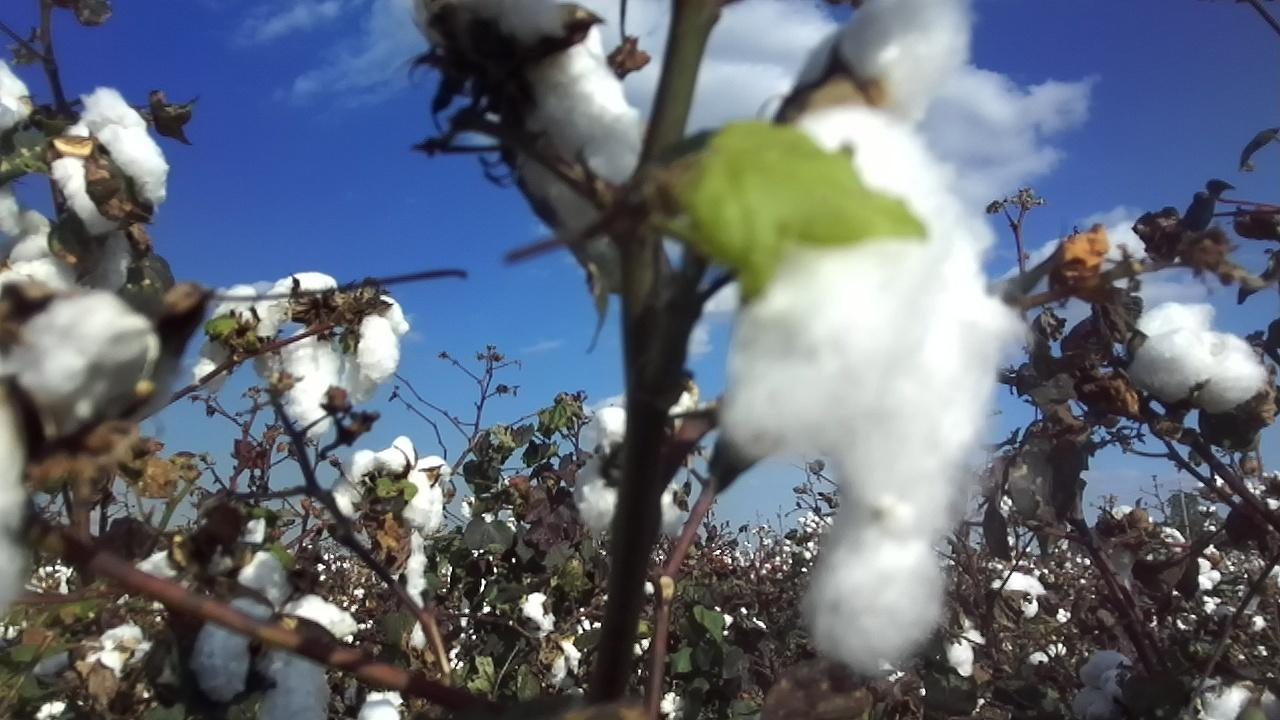cotton_ready: (719, 0, 1032, 682), (411, 0, 645, 292), (0, 267, 155, 624), (191, 547, 362, 720), (259, 269, 412, 438), (51, 86, 170, 237), (1125, 298, 1265, 420), (577, 401, 692, 544), (0, 190, 132, 297), (391, 434, 453, 650), (35, 624, 155, 720), (197, 277, 279, 395), (330, 449, 428, 527), (1071, 648, 1135, 720), (934, 605, 991, 680), (1186, 677, 1280, 720), (989, 572, 1051, 629), (0, 61, 39, 137), (356, 690, 405, 720)
